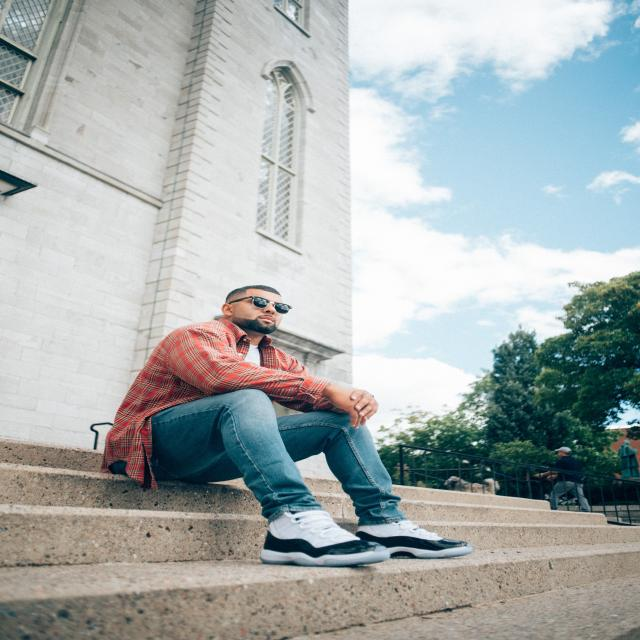nonfall: (112, 268, 470, 566)
